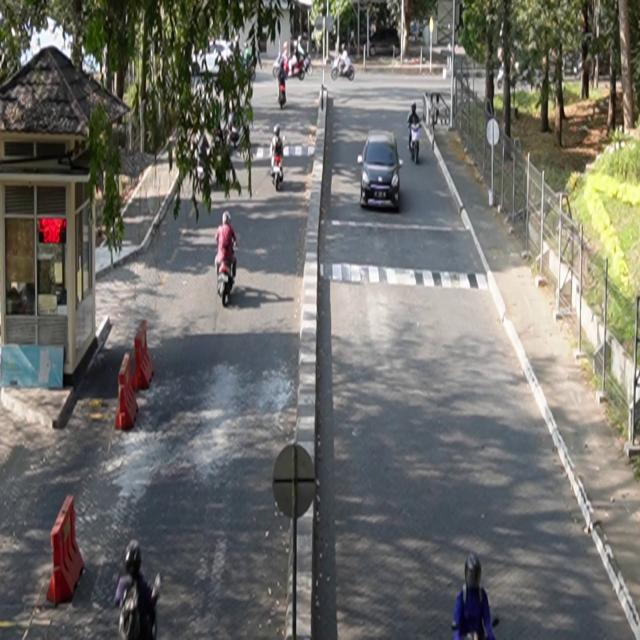car: (358, 130, 404, 212)
